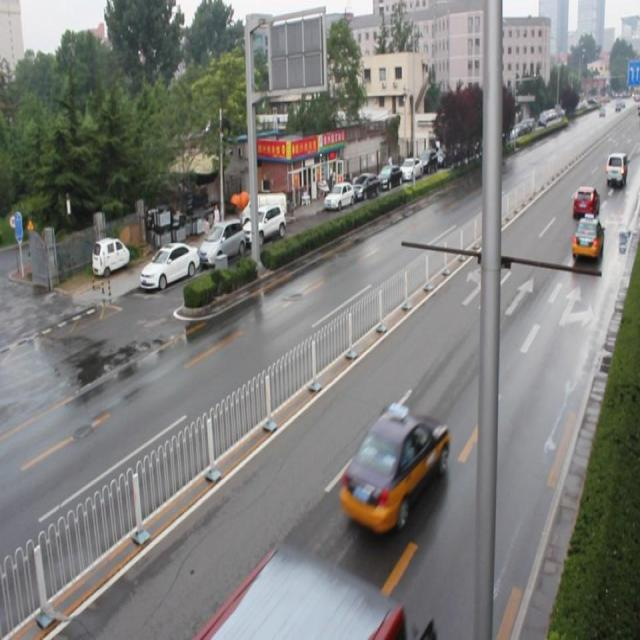car: (341, 398, 448, 532), (570, 212, 601, 264), (570, 186, 598, 217)
van: (192, 542, 411, 634)
